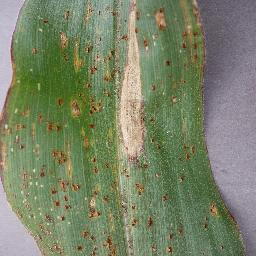Corn_Blight: (70, 0, 115, 117), (116, 0, 146, 167), (2, 21, 17, 190), (20, 162, 47, 224), (188, 0, 209, 76), (104, 181, 130, 234), (26, 224, 64, 256), (17, 110, 42, 154), (48, 172, 81, 197), (128, 202, 157, 227), (48, 197, 75, 222), (57, 7, 69, 61), (161, 228, 183, 256), (49, 147, 72, 172), (150, 116, 164, 151), (88, 188, 102, 219), (177, 143, 199, 162), (3, 190, 20, 212), (153, 4, 167, 29), (101, 237, 119, 256), (89, 158, 111, 173), (209, 201, 223, 221), (48, 120, 64, 135), (180, 29, 188, 56), (133, 182, 147, 197), (113, 170, 132, 181), (161, 54, 174, 69), (200, 79, 208, 103), (148, 237, 158, 256), (82, 229, 96, 242), (168, 91, 184, 101), (199, 220, 212, 232), (40, 14, 52, 25), (89, 245, 100, 256), (84, 122, 98, 130), (149, 82, 159, 93), (84, 137, 93, 148), (72, 244, 83, 252), (161, 194, 168, 205), (33, 45, 39, 57), (55, 97, 62, 107), (152, 172, 163, 178), (179, 177, 187, 185), (150, 34, 158, 40)
